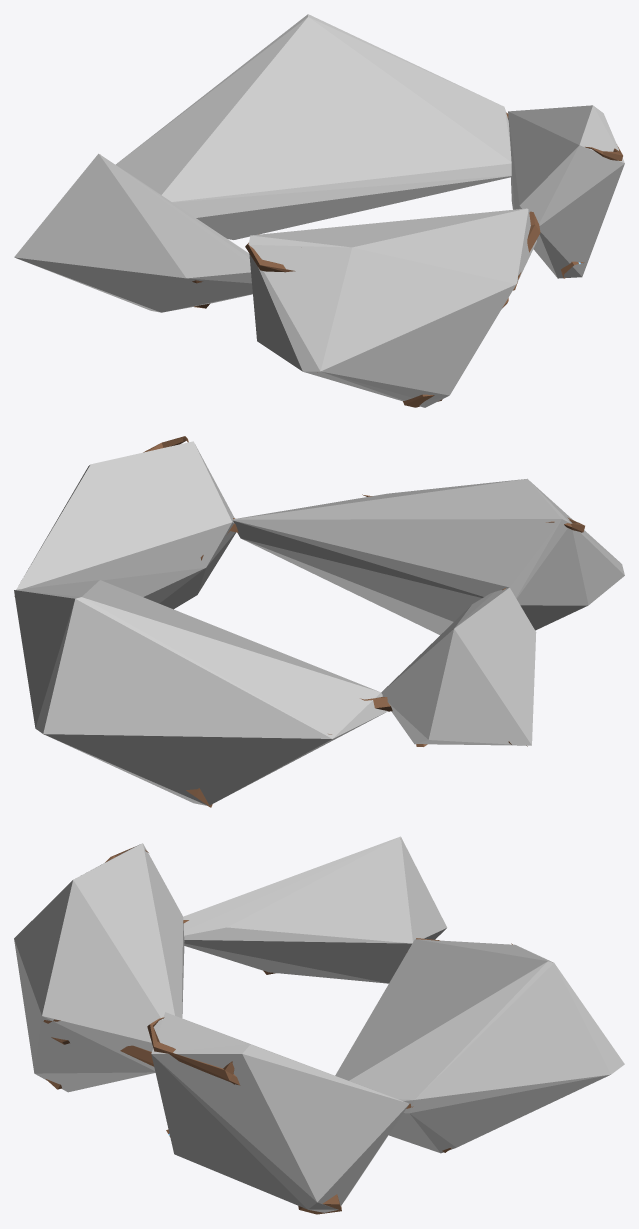
File: SM_Bld_Planetarium_01_Roots.fbx
3 renders of one model, top to bottom at view 1: azimuth 30°, elevation 25°; view 2: azimuth 150°, elevation 25°; view 3: azimuth 270°, elevation 25°, orthographic. The views are drawn at different scales.
Parts seen in each view (by area): view 1: SM_Bld_Planetarium_01_Roots_ConvexHulls, SM_Bld_Planetarium_01_Roots; view 2: SM_Bld_Planetarium_01_Roots_ConvexHulls, SM_Bld_Planetarium_01_Roots; view 3: SM_Bld_Planetarium_01_Roots_ConvexHulls, SM_Bld_Planetarium_01_Roots.
Boxes of the visible parts, x1=… form: SM_Bld_Planetarium_01_Roots_ConvexHulls: x1=14, y1=14, x2=624, y2=407; SM_Bld_Planetarium_01_Roots: x1=192, y1=112, x2=622, y2=407; SM_Bld_Planetarium_01_Roots_ConvexHulls: x1=14, y1=441, x2=624, y2=805; SM_Bld_Planetarium_01_Roots: x1=14, y1=436, x2=584, y2=807; SM_Bld_Planetarium_01_Roots_ConvexHulls: x1=14, y1=836, x2=624, y2=1212; SM_Bld_Planetarium_01_Roots: x1=43, y1=847, x2=512, y2=1214.
Size of the model in its own units: 411 by 410 by 141.
2 materials, 1 textured.
